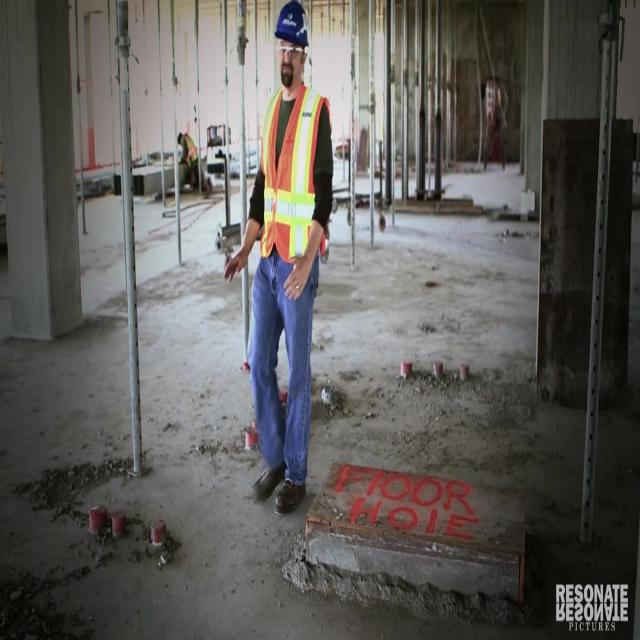Reflective-Jacket: (250, 79, 340, 275)
Safety-Helmet: (267, 0, 317, 59)
